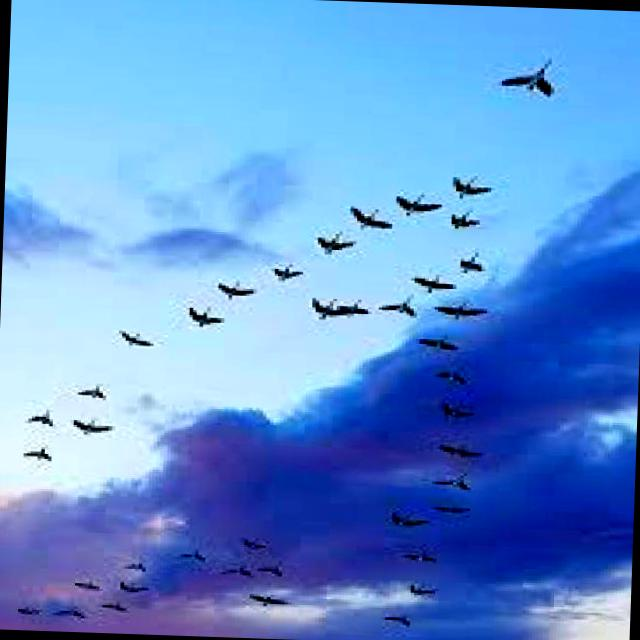bird: (501, 48, 586, 101), (380, 182, 458, 222), (337, 202, 401, 246), (430, 295, 501, 334), (417, 466, 495, 501), (443, 166, 511, 203), (10, 434, 78, 471), (296, 222, 357, 260), (336, 295, 384, 341), (204, 272, 268, 306), (67, 412, 131, 446), (365, 292, 426, 327), (174, 296, 238, 328), (403, 268, 467, 298), (416, 333, 474, 365), (112, 324, 176, 352), (452, 245, 500, 282), (399, 574, 456, 604), (380, 509, 438, 537), (379, 606, 429, 638), (436, 401, 484, 433), (439, 441, 500, 466), (18, 399, 58, 435), (262, 255, 312, 283), (400, 546, 450, 574), (171, 542, 221, 568), (300, 290, 334, 328), (1, 596, 44, 624), (436, 372, 483, 397), (74, 381, 117, 408), (223, 558, 270, 582), (108, 554, 158, 576), (447, 212, 490, 236), (118, 578, 160, 602), (229, 531, 269, 553), (245, 589, 288, 609), (101, 598, 138, 618), (256, 562, 292, 580), (67, 573, 103, 591), (439, 500, 468, 520), (60, 608, 94, 622)
